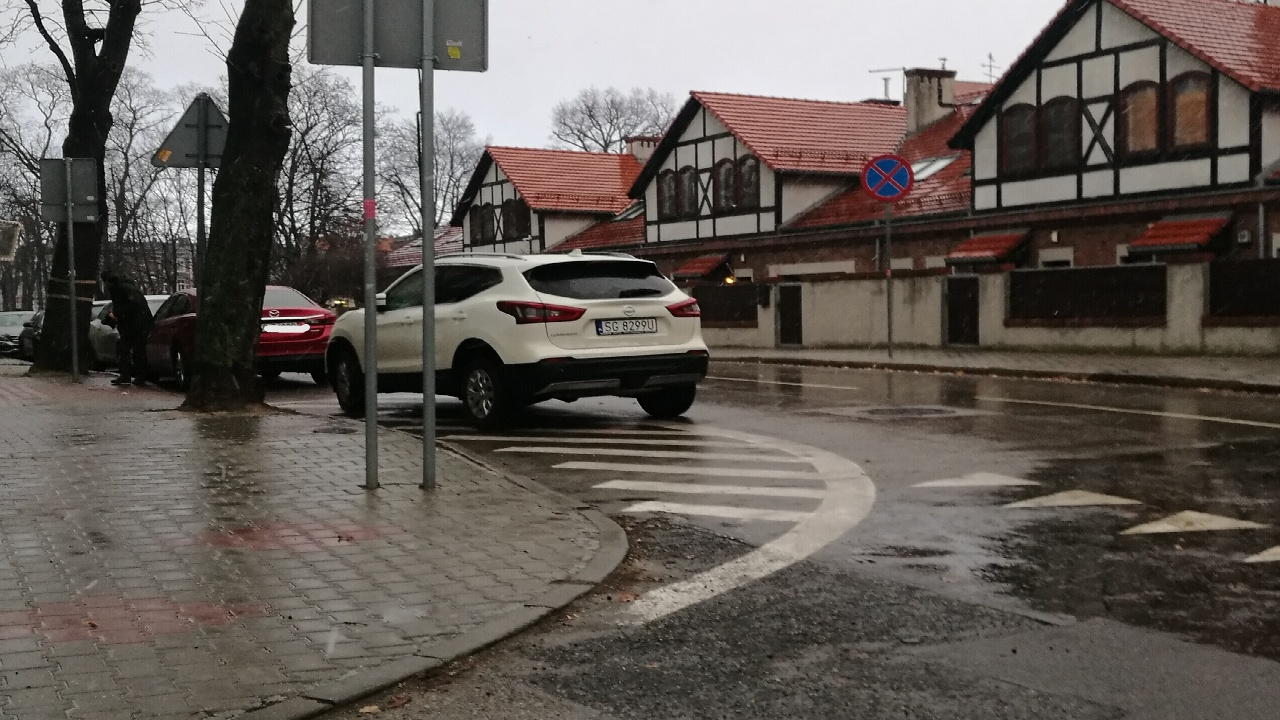B35: (858, 149, 920, 200)
